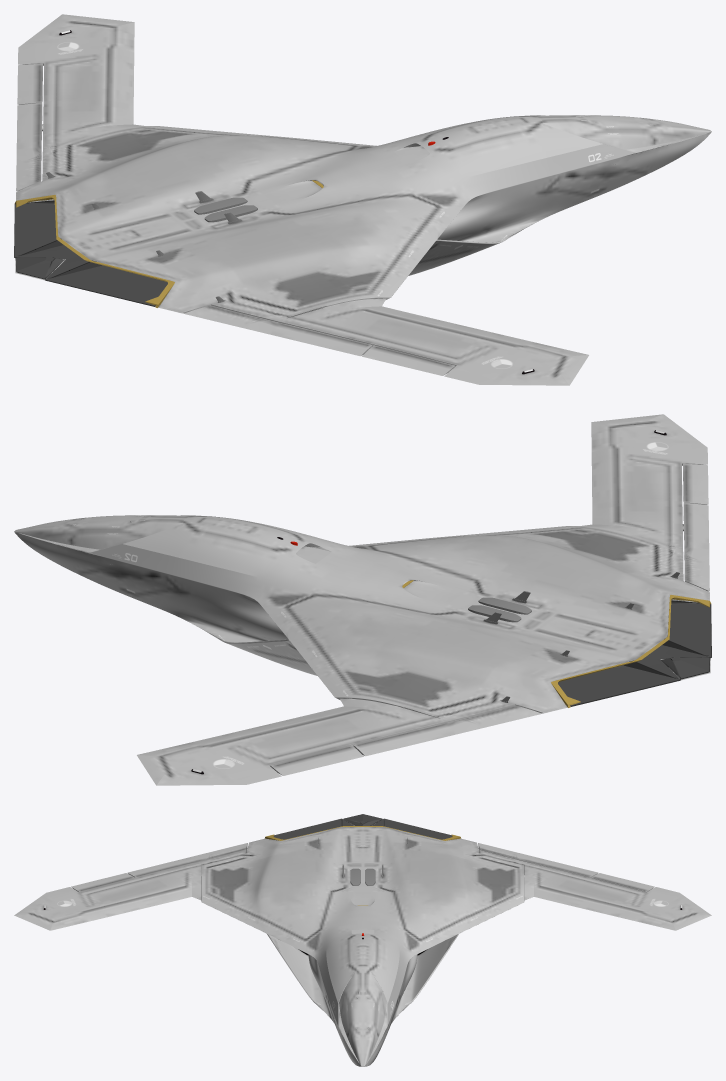
File: drone-frame.glb
3 renders of one model, top to bottom at view 1: azimuth 30°, elevation 25°; view 2: azimuth 150°, elevation 25°; view 3: azimuth 270°, elevation 25°, orthographic. The views are drawn at different scales.
Parts seen in each view (by area): view 1: Plane.011_stealh_0, Plane.004_enginemetal_0, Plane.010_DETAIL_WHITE_0, Plane.002_GOLD_0, Plane.006_stickers_0; view 2: Plane.011_stealh_0, Plane.004_enginemetal_0, Plane.010_DETAIL_WHITE_0, Plane.002_GOLD_0, Plane.006_stickers_0; view 3: Plane.011_stealh_0, Plane.004_enginemetal_0, Plane.010_DETAIL_WHITE_0.
Part boxes in pixels (left/top/right/bottom): Plane.011_stealh_0: left=15, top=14, right=711, bottom=385; Plane.004_enginemetal_0: left=14, top=200, right=167, bottom=306; Plane.010_DETAIL_WHITE_0: left=46, top=172, right=257, bottom=302; Plane.002_GOLD_0: left=14, top=30, right=534, bottom=374; Plane.006_stickers_0: left=57, top=42, right=618, bottom=368; Plane.011_stealh_0: left=14, top=414, right=710, bottom=785; Plane.004_enginemetal_0: left=558, top=600, right=711, bottom=706; Plane.010_DETAIL_WHITE_0: left=468, top=572, right=679, bottom=702; Plane.002_GOLD_0: left=191, top=430, right=711, bottom=774; Plane.006_stickers_0: left=107, top=442, right=668, bottom=768; Plane.011_stealh_0: left=14, top=823, right=711, bottom=1066; Plane.004_enginemetal_0: left=273, top=814, right=452, bottom=839; Plane.010_DETAIL_WHITE_0: left=245, top=838, right=480, bottom=885.
Bounding box in the file's own units: 528 × 62.75 × 667.
5 materials, 3 textured.
